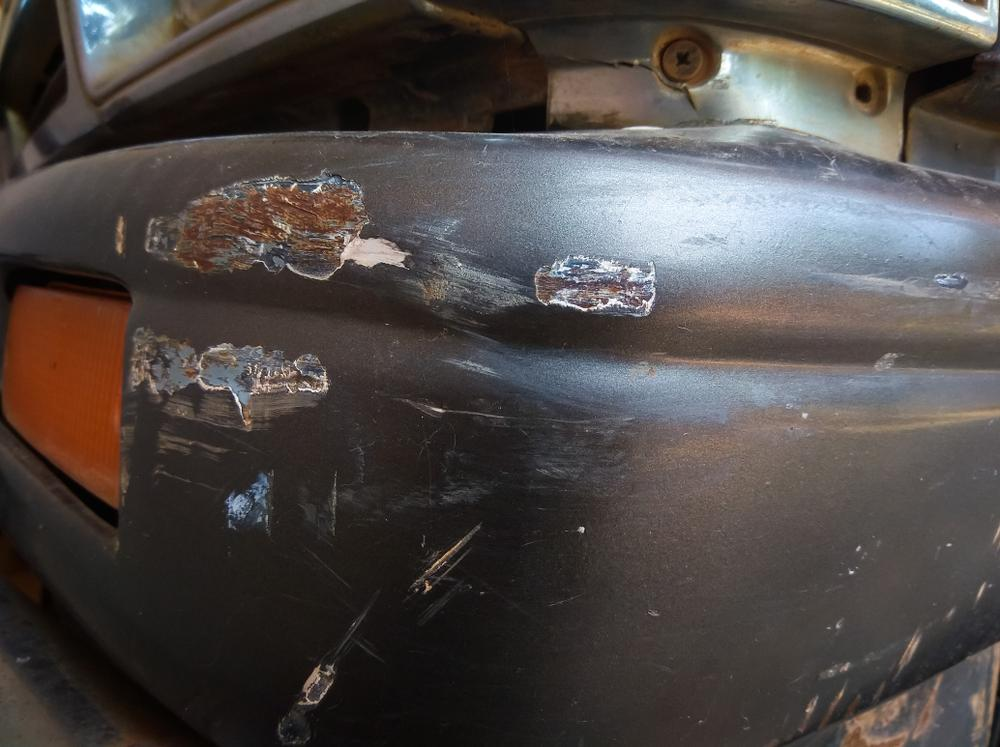crack: (537, 52, 697, 115)
scratch: (120, 166, 679, 747), (822, 267, 1000, 309)
